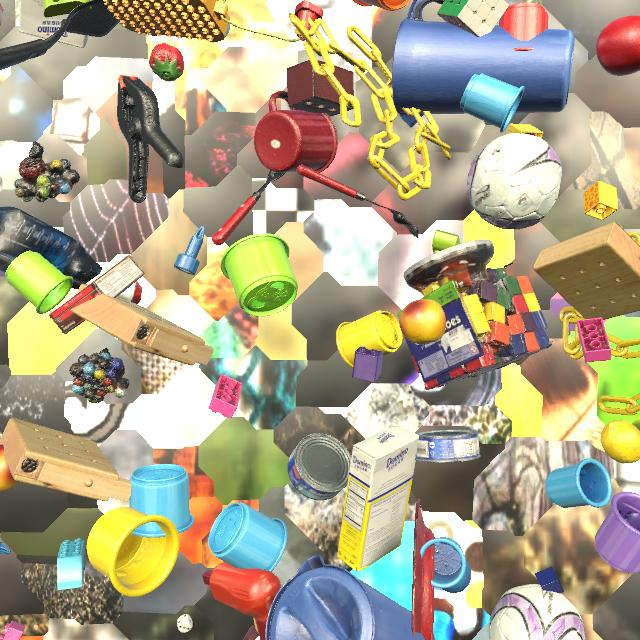ycb_004_sugar_box: (337, 426, 419, 571), (20, 0, 88, 48)
ycb_007_tuna_fish_can: (287, 433, 351, 500), (415, 429, 480, 463)
ycb_008_pudding_box: (49, 255, 145, 334)
ycb_009_gelatin_box: (0, 4, 3, 26)
ycb_012_strawberry: (149, 43, 184, 81)
ycb_013_apple: (596, 15, 640, 76)
ycb_014_lemon: (600, 420, 640, 464)
ycb_015_peach: (399, 299, 446, 344), (0, 444, 19, 493)
